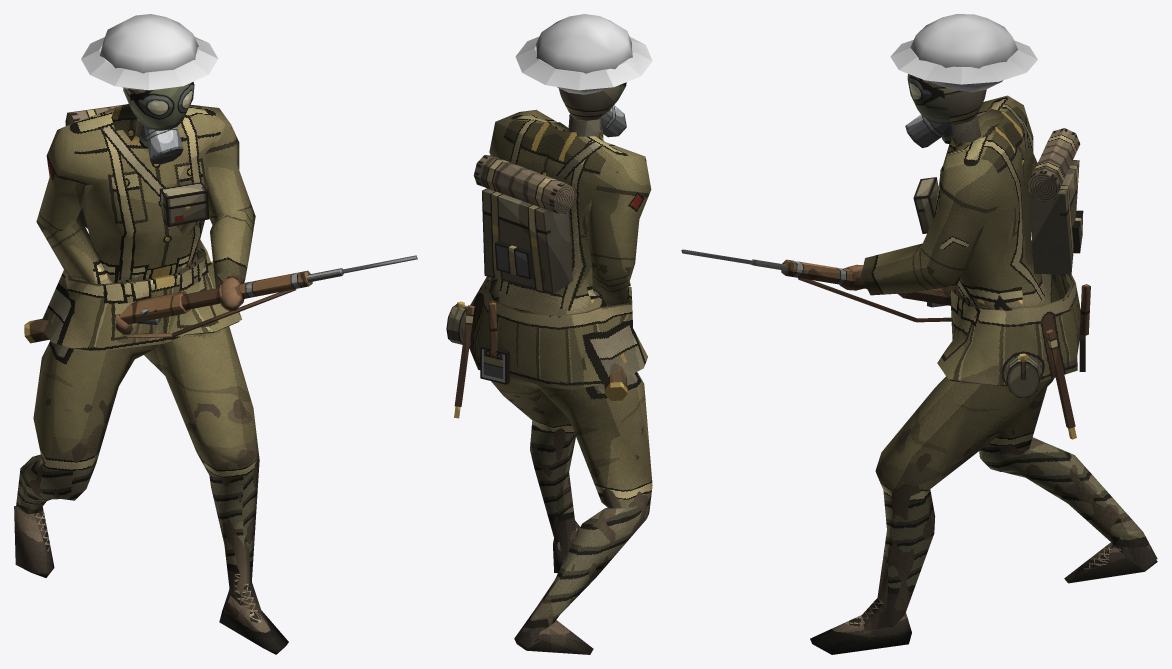
File: yeoman.glb
3 renders of one model, left to right at view 1: azimuth 30°, elevation 25°; view 2: azimuth 150°, elevation 25°; view 3: azimuth 270°, elevation 25°, orthographic.
Parts seen in each view (by area): view 1: Body, Accent, Weapon, Helmet, Hip; view 2: Body, Back, Accent, Hip, Helmet, Weapon; view 3: Body, Accent, Back, Hip, Helmet, Weapon.
Boxes of the visible parts, box(x1,y1,x2,y2) form: Body: box(14, 103, 288, 654); Accent: box(81, 14, 217, 90); Weapon: box(24, 255, 417, 343); Helmet: box(123, 82, 194, 164); Hip: box(159, 182, 213, 269); Body: box(469, 109, 652, 654); Back: box(473, 155, 574, 293); Accent: box(515, 14, 652, 94); Hip: box(446, 301, 509, 418); Helmet: box(558, 82, 626, 137); Weapon: box(602, 134, 630, 400); Body: box(810, 95, 1157, 654); Accent: box(890, 14, 1037, 92); Back: box(1027, 128, 1083, 274); Hip: box(913, 177, 1090, 439); Helmet: box(905, 74, 986, 147); Weapon: box(681, 249, 960, 322).
Size of the model in its own units: 0.4567 by 1.2 by 0.8657.
6 materials, 5 textured.
